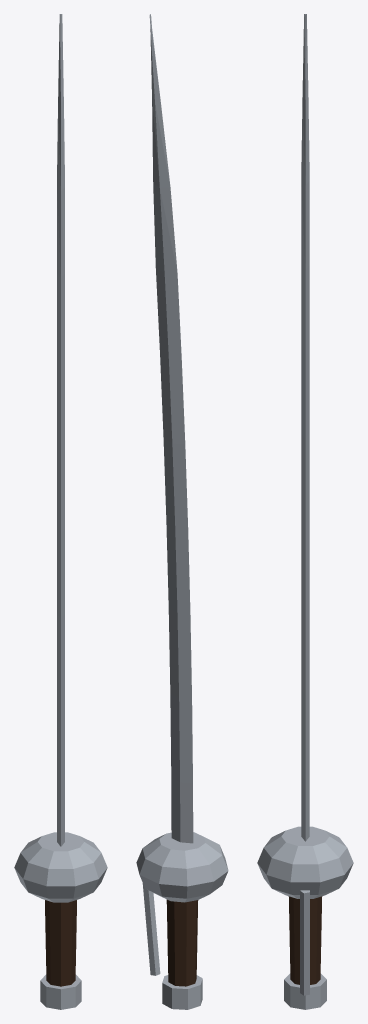
Rendered from g-rapier-sabre.glb.
3 views of the same model, side by side, from view 1: azimuth 90°, elevation 25°; view 2: azimuth 150°, elevation 25°; view 3: azimuth 270°, elevation 25° (orthographic). The views are drawn at different scales.
Visible parts, largest first — view 1: g-rapier-sabre; view 2: g-rapier-sabre; view 3: g-rapier-sabre.
Part boxes in pixels (x1,y1,x2,y2): g-rapier-sabre: (14,14,107,1009); g-rapier-sabre: (136,14,228,1009); g-rapier-sabre: (257,14,353,1009).
Size of the model in its own units: 0.0875 by 1.03 by 0.09.
